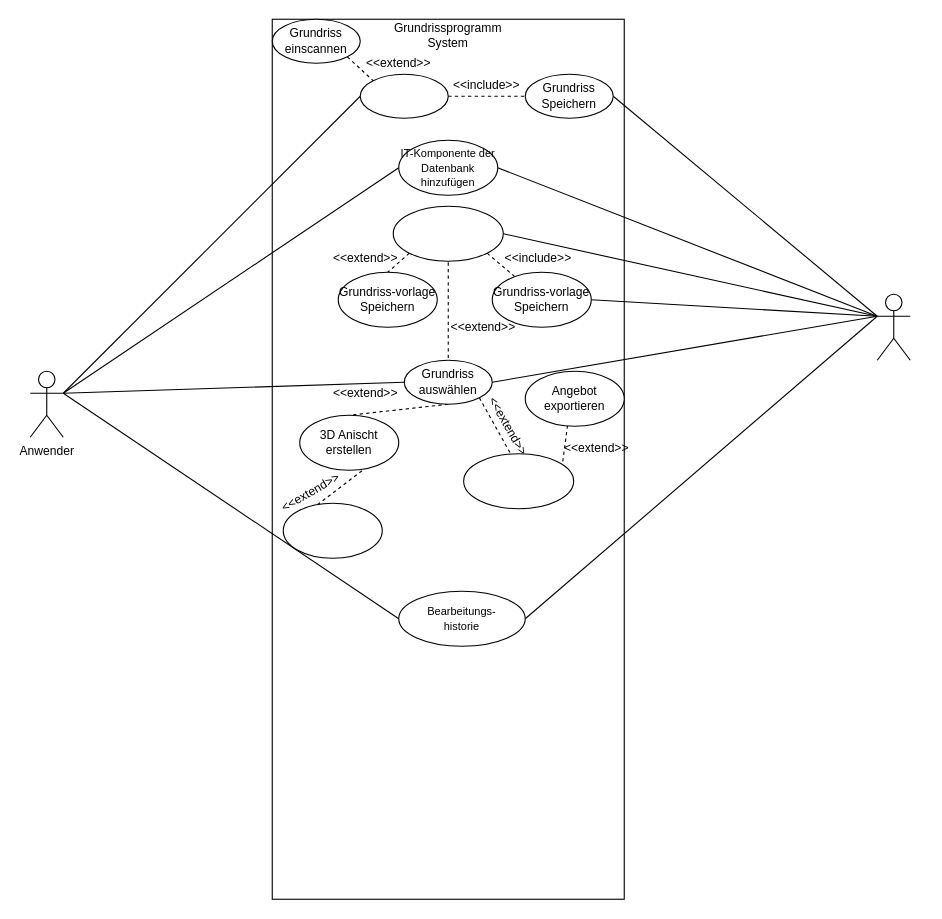
Some shapes in this 942 by 919 pixel diagram are drawn without their labels. Each missing label, with the box of its shape:
Angebot berechnen: (463, 453, 574, 509)
Ansicht exportieren: (282, 502, 382, 558)
Datenbank Cloud: (876, 293, 910, 360)
Grundriss importieren: (359, 73, 448, 118)
IT-Komponenten auswählen und Hinzufügen: (392, 205, 503, 261)
